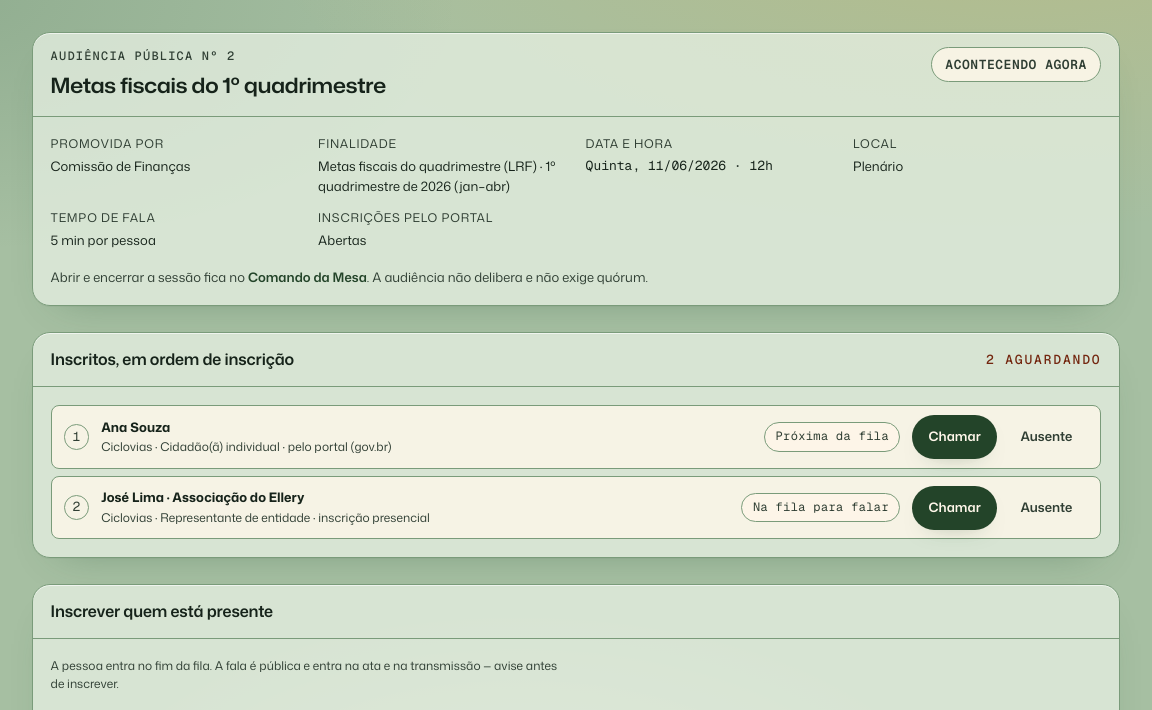
Test: Mesa da audiência pública › ausente: POST na ausência
The image size is (1152, 710).
Click the button with aria-label "Marcar José Lima como ausente" at {"x": 1046, "y": 508}, box [1004,486,1088,530]
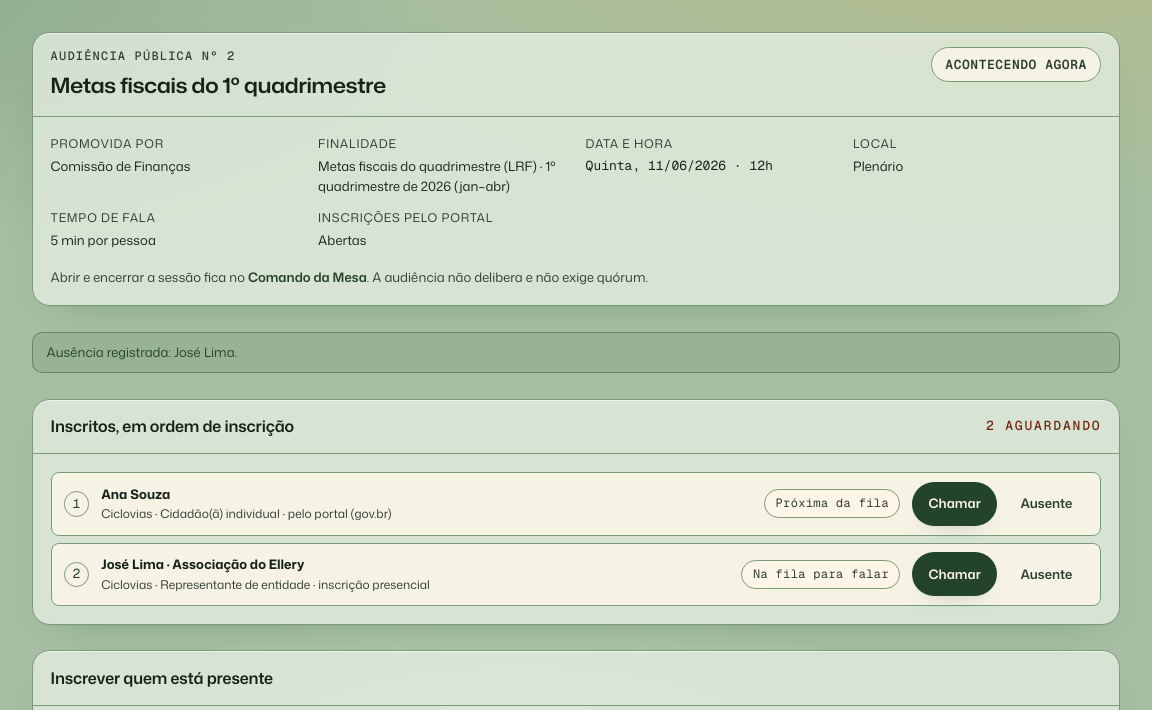
Expected: the text "Ausência registrada: José Lima." is shown, [32,332,1120,373]
